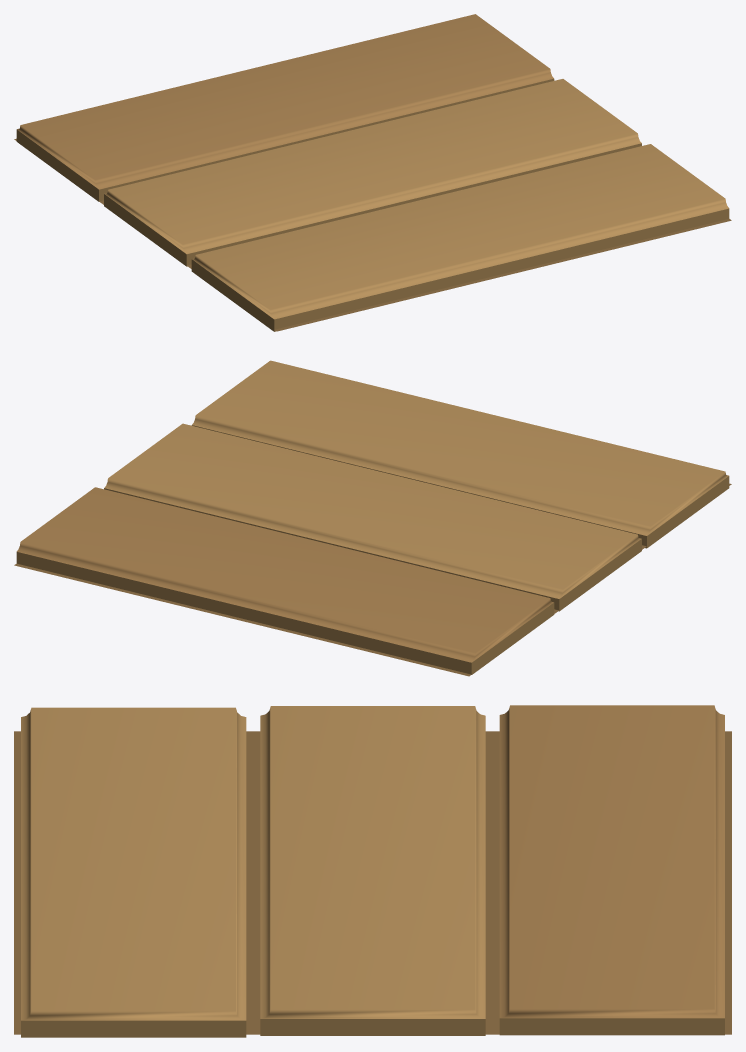
Rendered from master_wood_planks_03.glb.
3 renders of one model, top to bottom at view 1: azimuth 30°, elevation 25°; view 2: azimuth 150°, elevation 25°; view 3: azimuth 270°, elevation 25°, orthographic. The views are drawn at different scales.
Parts seen in each view (by area): view 1: master_wood_planks_03; view 2: master_wood_planks_03; view 3: master_wood_planks_03.
Boxes of the visible parts, bbox=[...] form: master_wood_planks_03: bbox=[14, 14, 731, 331]; master_wood_planks_03: bbox=[14, 360, 731, 676]; master_wood_planks_03: bbox=[14, 705, 731, 1037].
Bounding box in the file's own units: 1.35 × 0.065 × 1.35.
